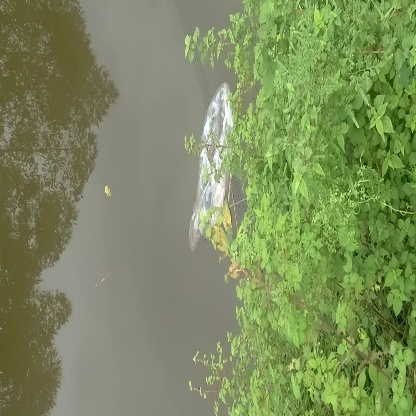plastic-bag: (185, 81, 240, 248)
